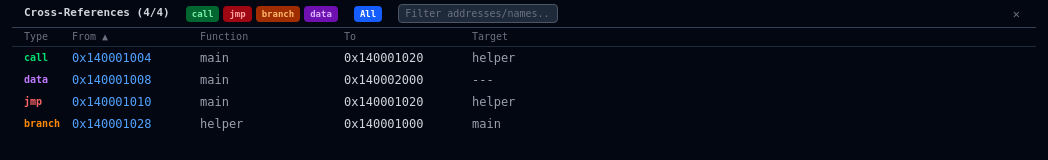
it: XrefPanel › the text filter › matches a function name case-insensitively, at either end
Type "HELPER" into the field with placeholder "Filter addresses/names..." at (478, 14), box left=398, top=4, right=558, bottom=23
Wait 250 ms
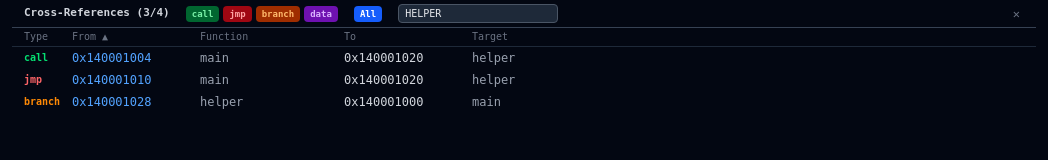
Check: the text "Cross-References (3/4)" is shown, box left=24, top=6, right=170, bottom=21
